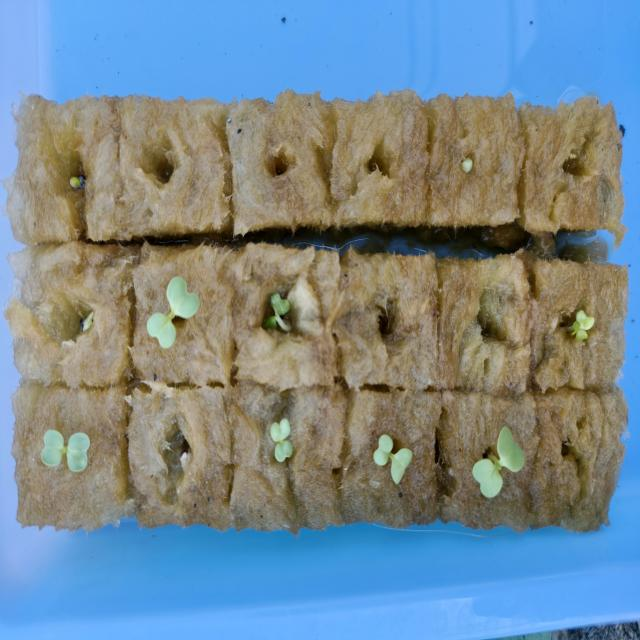daun-pakcoy: (167, 276, 200, 319), (472, 458, 503, 498), (497, 427, 524, 472), (263, 293, 292, 332), (147, 312, 176, 348), (65, 432, 90, 472), (41, 429, 65, 466), (389, 448, 413, 485), (571, 310, 595, 341), (373, 434, 393, 465), (274, 434, 293, 462), (270, 418, 290, 442)
